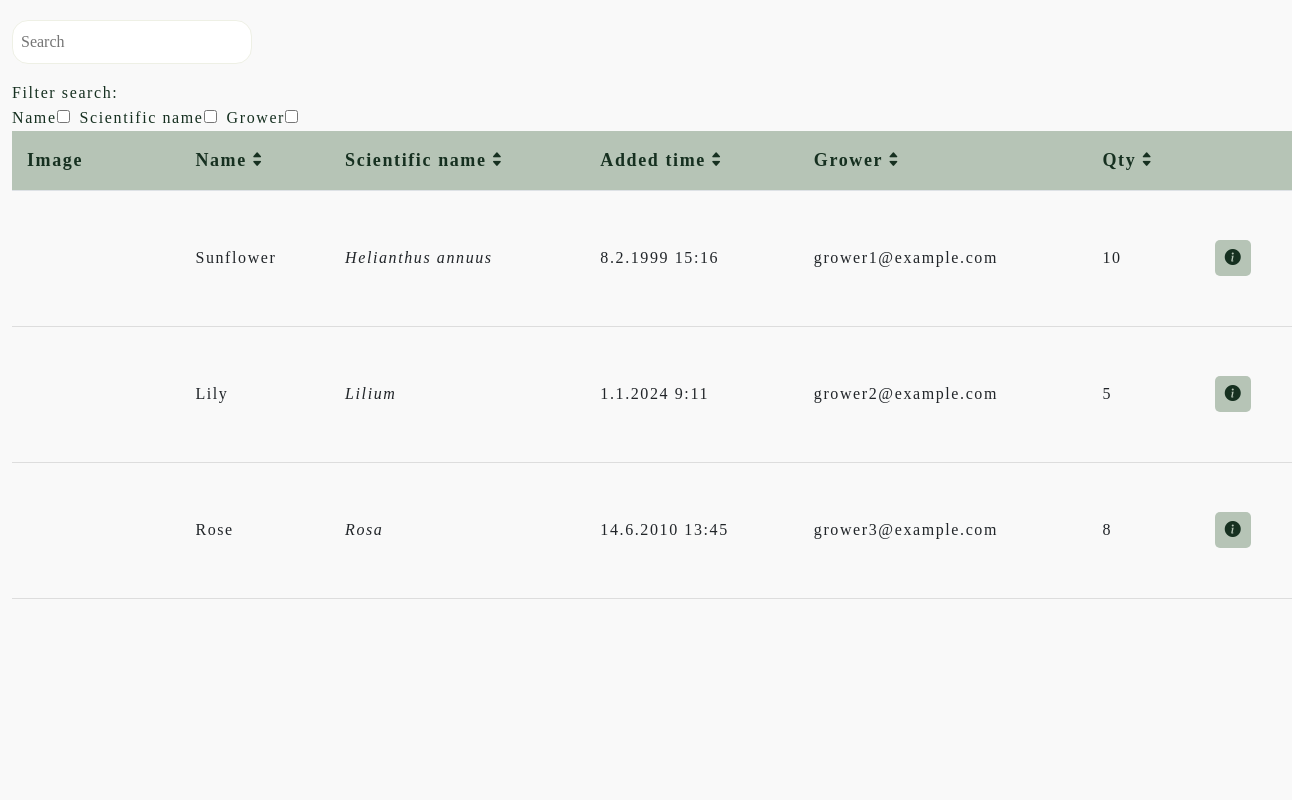
searches correctly when typing in the search box
Type "Lily" into the field with placeholder "Search" at (132, 42), box [12,20,252,64]
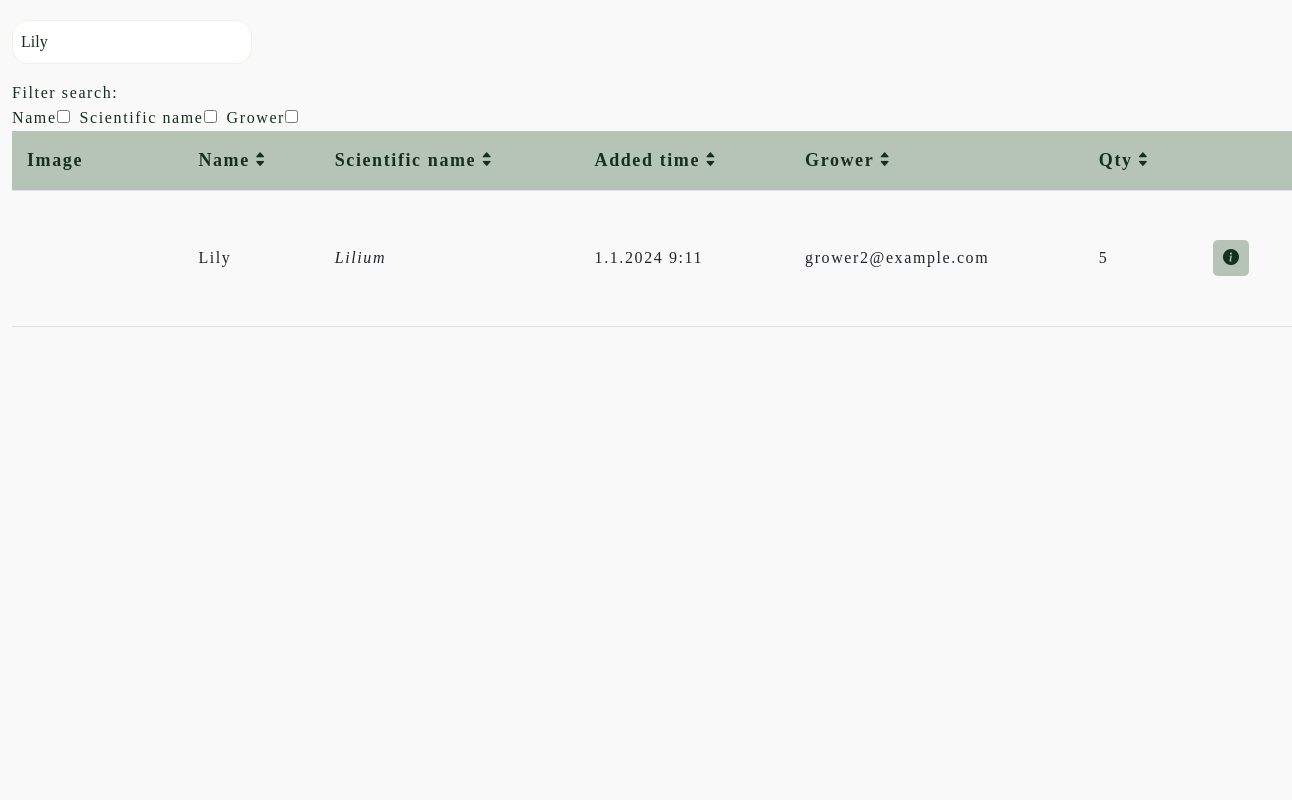
Check: the text "Lily" is shown, box [183,190,320,326]
Check: the text "Rose" is gone
